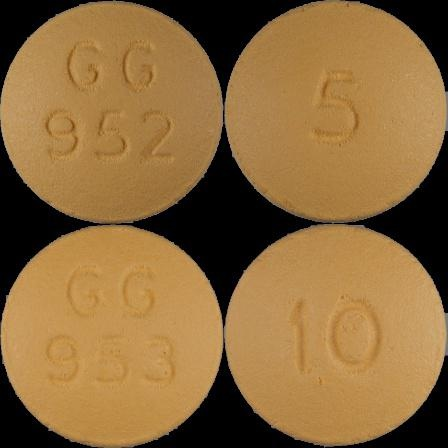0781-5020: (0, 0, 224, 224)
